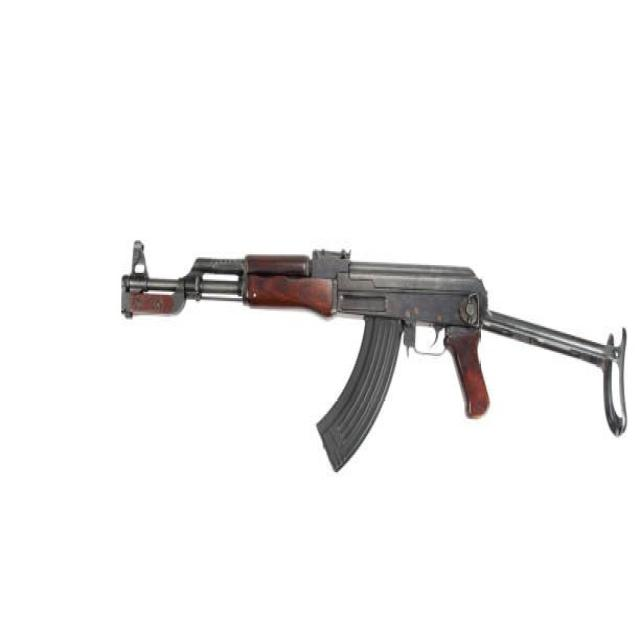rifle: (121, 232, 637, 481)
